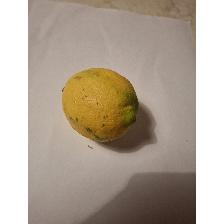Zitrone: (60, 66, 140, 144)
